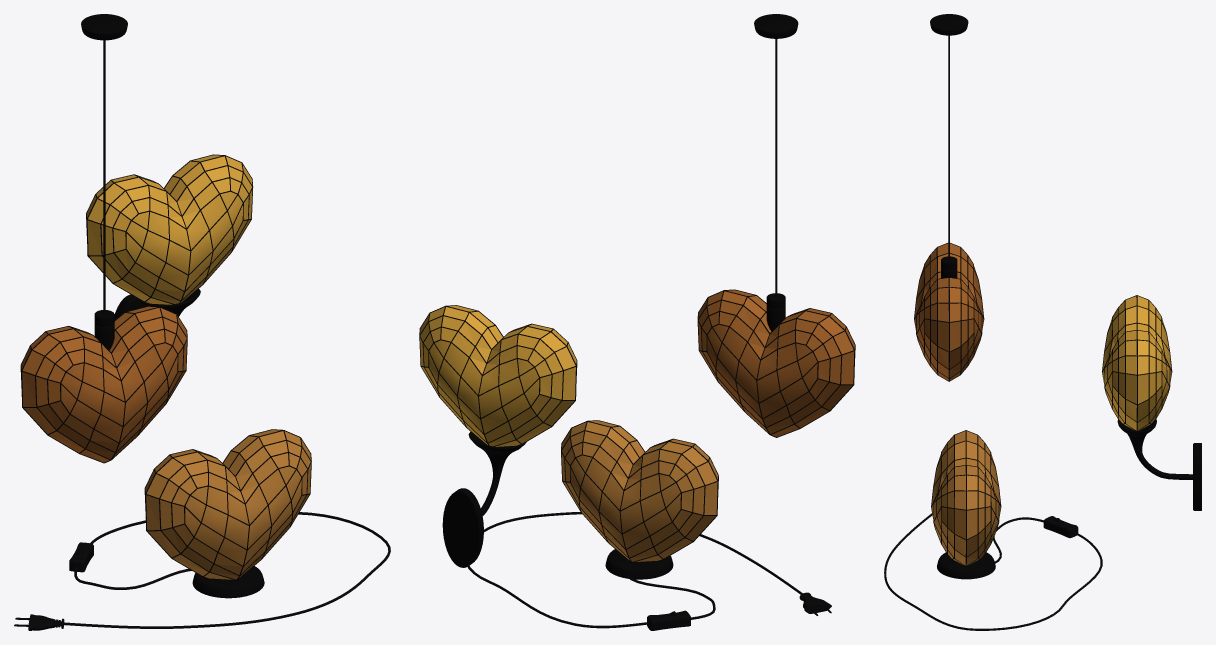
3 views of the same model, side by side, from view 1: azimuth 30°, elevation 25°; view 2: azimuth 150°, elevation 25°; view 3: azimuth 270°, elevation 25° (orthographic). The views are drawn at different scales.
Visible parts, largest first — view 1: Heart_light_glass (×3), Heart_light_frame (×3), Heart_light_wire, Heart_light_holder (×2), Heart_light_stand, Heart_light_cord, Heart_light_lampholder, Heart_light_switch, Heart_light_plug; view 2: Heart_light_glass (×3), Heart_light_frame (×3), Heart_light_holder (×2), Heart_light_wire, Heart_light_stand, Heart_light_cord, Heart_light_switch, Heart_light_lampholder; view 3: Heart_light_glass (×3), Heart_light_frame (×3), Heart_light_holder (×2), Heart_light_wire, Heart_light_stand, Heart_light_switch, Heart_light_cord.
Part boxes in pixels (bbox=[...]): Heart_light_glass (×3): bbox=[21, 155, 310, 579]; Heart_light_frame (×3): bbox=[20, 154, 311, 580]; Heart_light_wire: bbox=[63, 512, 390, 628]; Heart_light_holder (×2): bbox=[81, 14, 200, 319]; Heart_light_stand: bbox=[192, 566, 264, 598]; Heart_light_cord: bbox=[103, 40, 105, 314]; Heart_light_lampholder: bbox=[94, 310, 114, 350]; Heart_light_switch: bbox=[69, 542, 93, 572]; Heart_light_plug: bbox=[14, 614, 64, 630]; Heart_light_glass (×3): bbox=[420, 290, 854, 561]; Heart_light_frame (×3): bbox=[419, 289, 855, 562]; Heart_light_holder (×2): bbox=[442, 14, 798, 567]; Heart_light_wire: bbox=[467, 512, 802, 628]; Heart_light_stand: bbox=[605, 549, 673, 579]; Heart_light_cord: bbox=[775, 39, 777, 297]; Heart_light_switch: bbox=[647, 610, 690, 630]; Heart_light_lampholder: bbox=[766, 293, 785, 331]; Heart_light_glass (×3): bbox=[914, 243, 1171, 565]; Heart_light_frame (×3): bbox=[914, 243, 1172, 566]; Heart_light_holder (×2): bbox=[930, 14, 1201, 510]; Heart_light_wire: bbox=[884, 513, 1102, 630]; Heart_light_stand: bbox=[937, 552, 995, 579]; Heart_light_switch: bbox=[1043, 516, 1078, 538]; Heart_light_cord: bbox=[948, 35, 949, 259].
Bounding box in the file's own units: 574 × 867 × 508.
